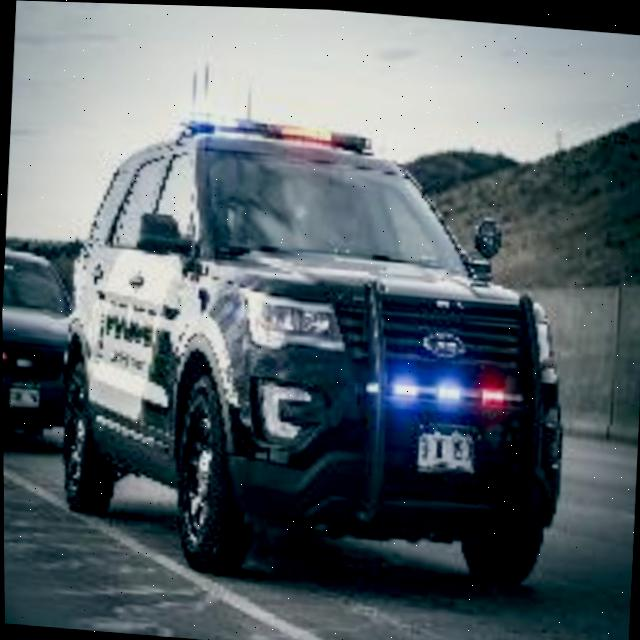emergency: (35, 93, 565, 567)
